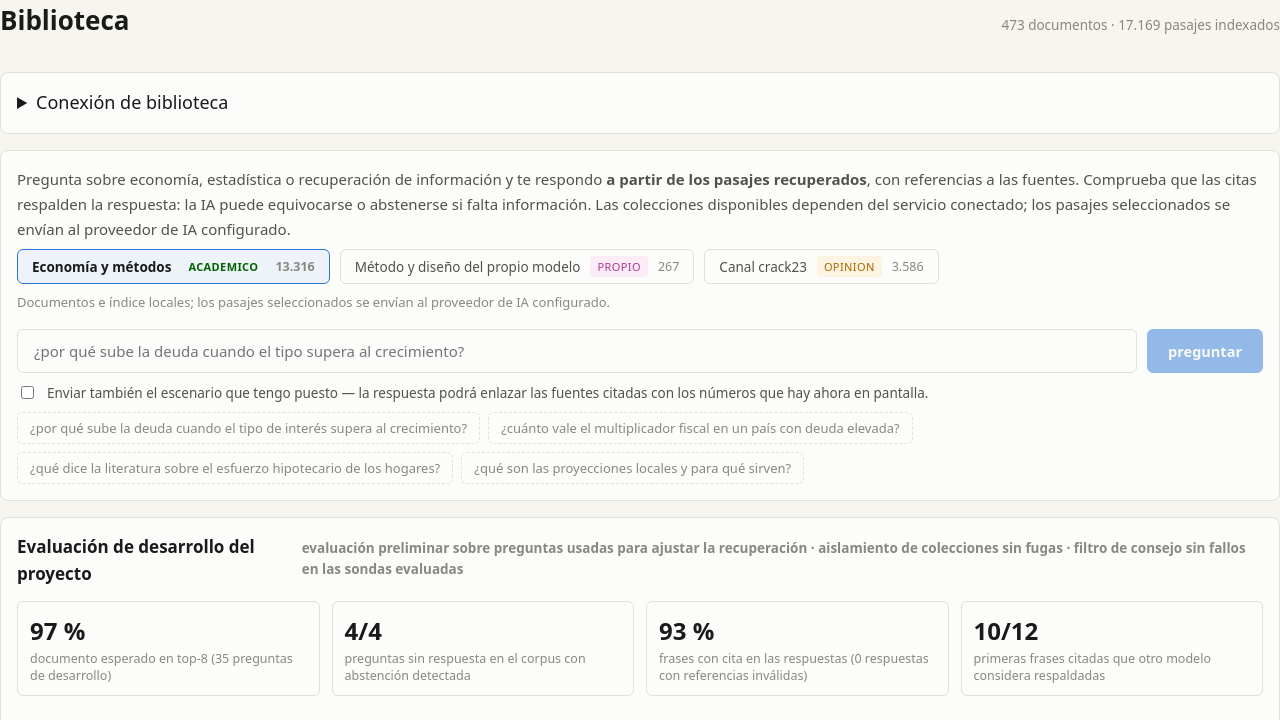
Test: Biblioteca — chat con citas › discloses which model wrote the answer
This screenshot has width=1280, height=720.
Expected: the text "Economía y métodos" is shown, [32,256,171,277]
Click the button "multiplicador fiscal".
click(700, 428)  # box [488,412,913,444]
(page scrolled)
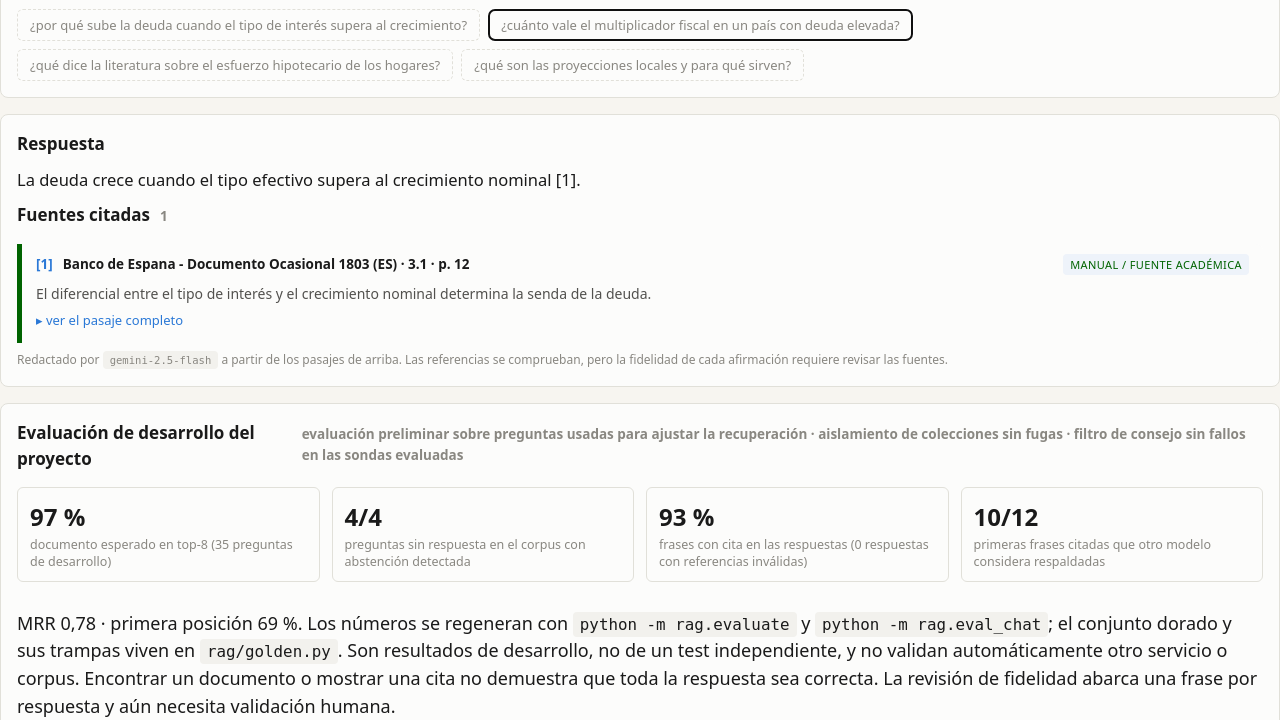
Expected: the text "gemini-2.5-flash" is shown, [103,351,218,369]
Expected: the text "fidelidad de cada afirmación requiere revisar las fuentes" is shown, [218,351,948,368]
